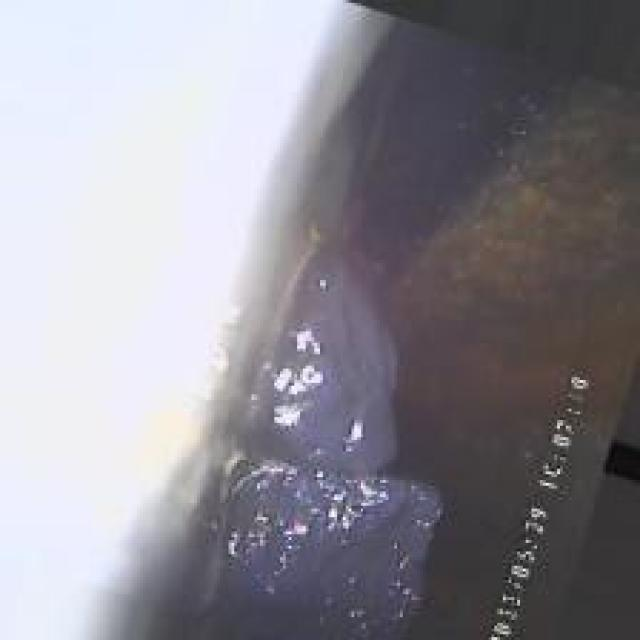stone: (234, 272, 446, 628)
